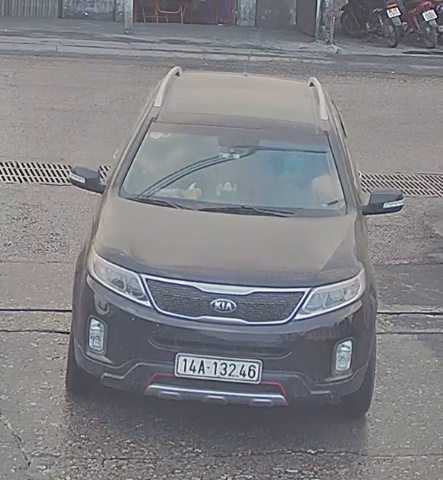vehicle plate: (169, 349, 267, 387)
